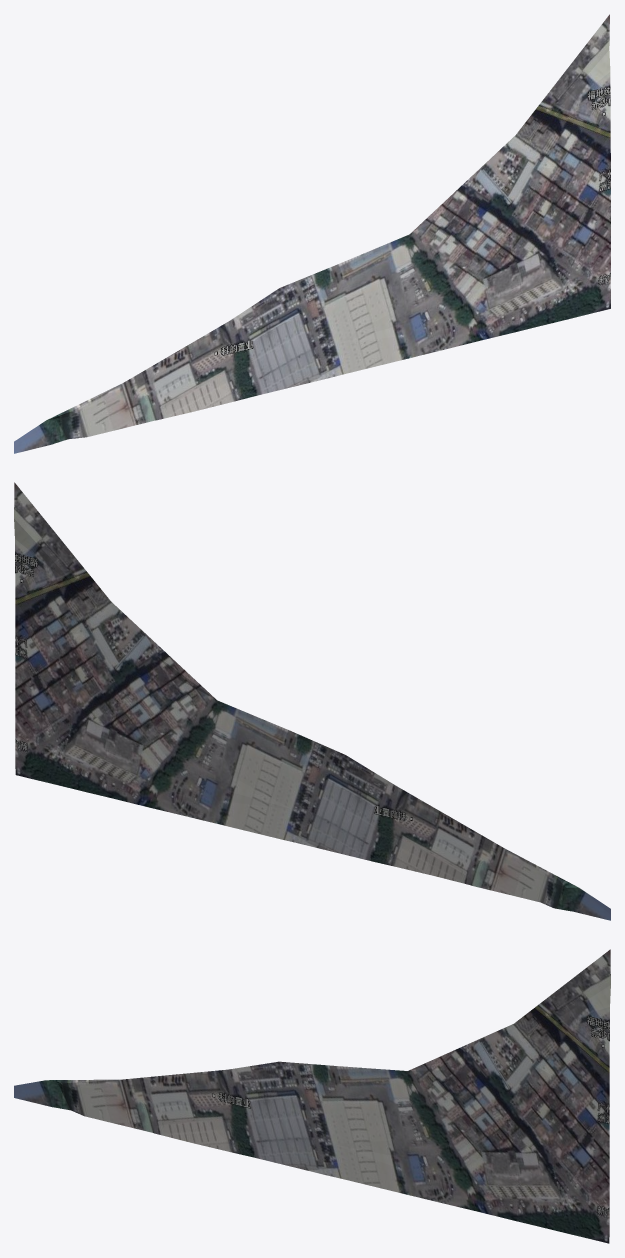
3 views of the same model, one above another, from view 1: azimuth 30°, elevation 25°; view 2: azimuth 150°, elevation 25°; view 3: azimuth 330°, elevation 25° (orthographic).
Parts seen in each view (by area): view 1: 0_2_1_2_2_0; view 2: 0_2_1_2_2_0; view 3: 0_2_1_2_2_0.
Part boxes in pixels (box(x1,y1,x2,y2)): 0_2_1_2_2_0: box(14, 14, 610, 453); 0_2_1_2_2_0: box(14, 482, 610, 920); 0_2_1_2_2_0: box(14, 949, 610, 1243).
Bounding box in the file's own units: 486 × 229 × 4.42.
1 material, 1 textured.
